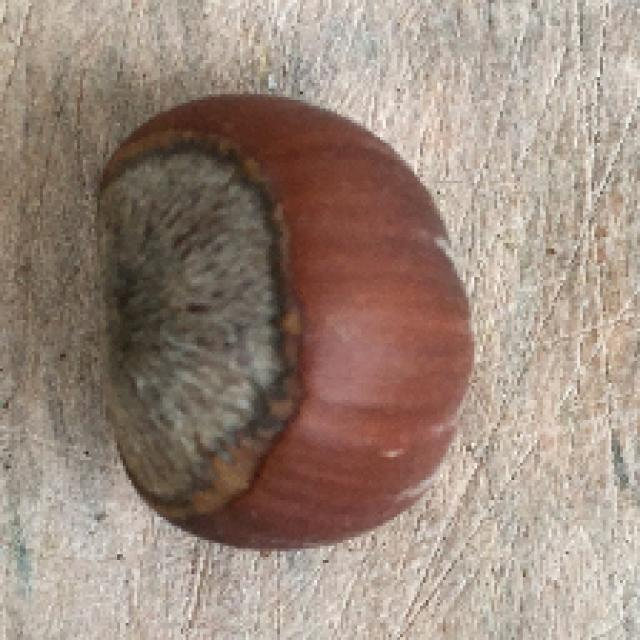qualityHazelnut: (75, 78, 482, 564)
